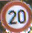20 km speed: (1, 1, 31, 33)
